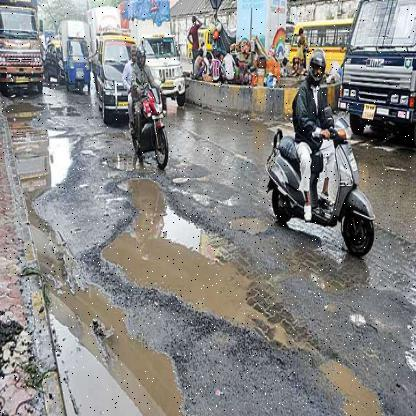pothole_water_m: (94, 164, 269, 326)
